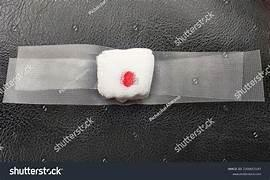Bandage: (3, 45, 263, 104)
cotton: (127, 50, 263, 103), (97, 48, 153, 101)
